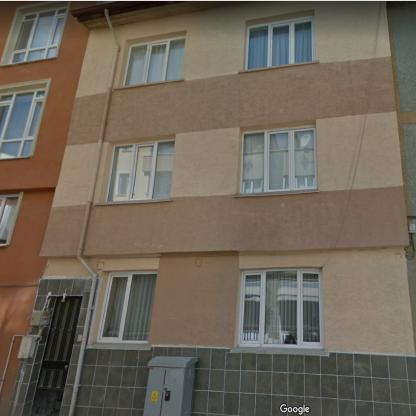door: (31, 298, 81, 416)
window: (238, 270, 322, 348), (239, 126, 316, 193), (106, 140, 174, 201), (98, 272, 156, 342), (6, 3, 68, 65), (246, 15, 313, 70), (1, 86, 46, 159), (123, 36, 185, 86), (1, 196, 19, 244)
